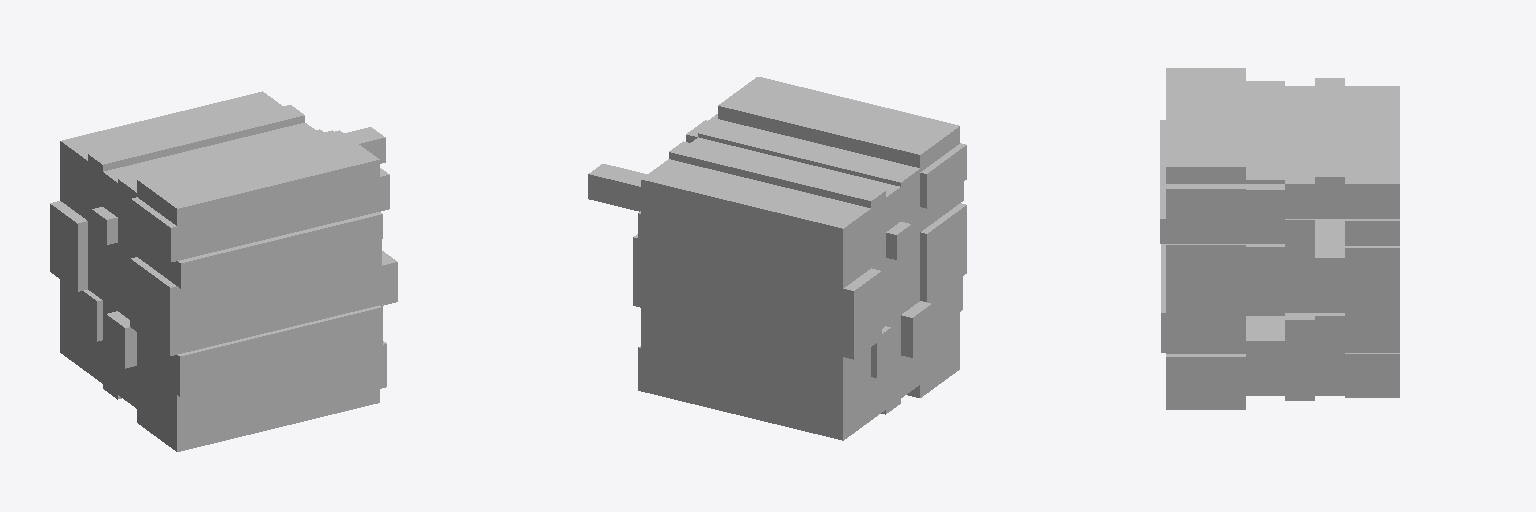
The model's file is 1_head.obj.
3 renders of one model, left to right at view 1: azimuth 30°, elevation 25°; view 2: azimuth 150°, elevation 25°; view 3: azimuth 270°, elevation 25°, orthographic.
Visible parts, largest first — view 1: Cube; view 2: Cube; view 3: Cube.
Boxes of the visible parts, box(x1,y1,x2,y2) form: Cube: box(50, 91, 397, 451); Cube: box(588, 77, 966, 440); Cube: box(1160, 68, 1399, 409).
Size of the model in its own units: 0.543 by 0.4286 by 0.3838.